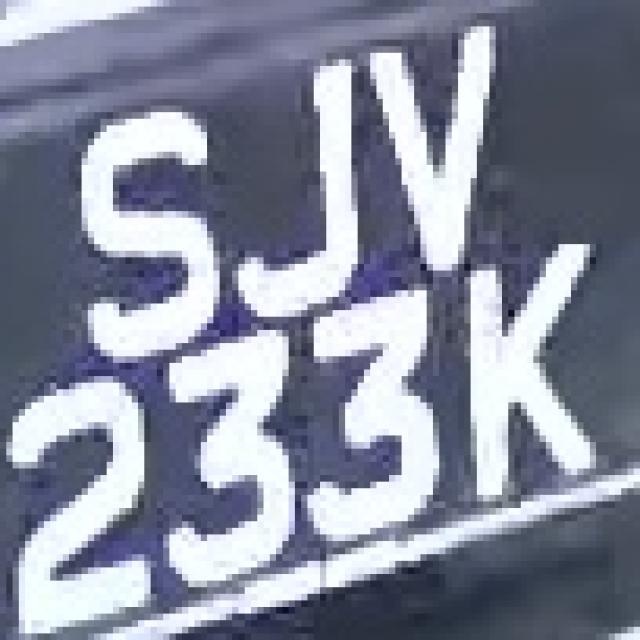2: (0, 356, 176, 627)
3: (144, 330, 314, 607), (282, 271, 440, 554)
J: (232, 52, 370, 316)
K: (440, 238, 602, 514)
S: (75, 92, 238, 363)
V: (358, 20, 508, 290)
